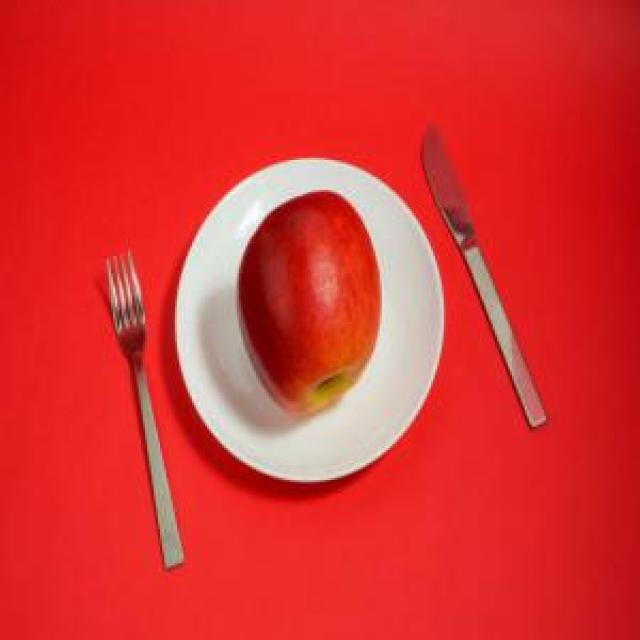knife: (418, 124, 548, 433)
